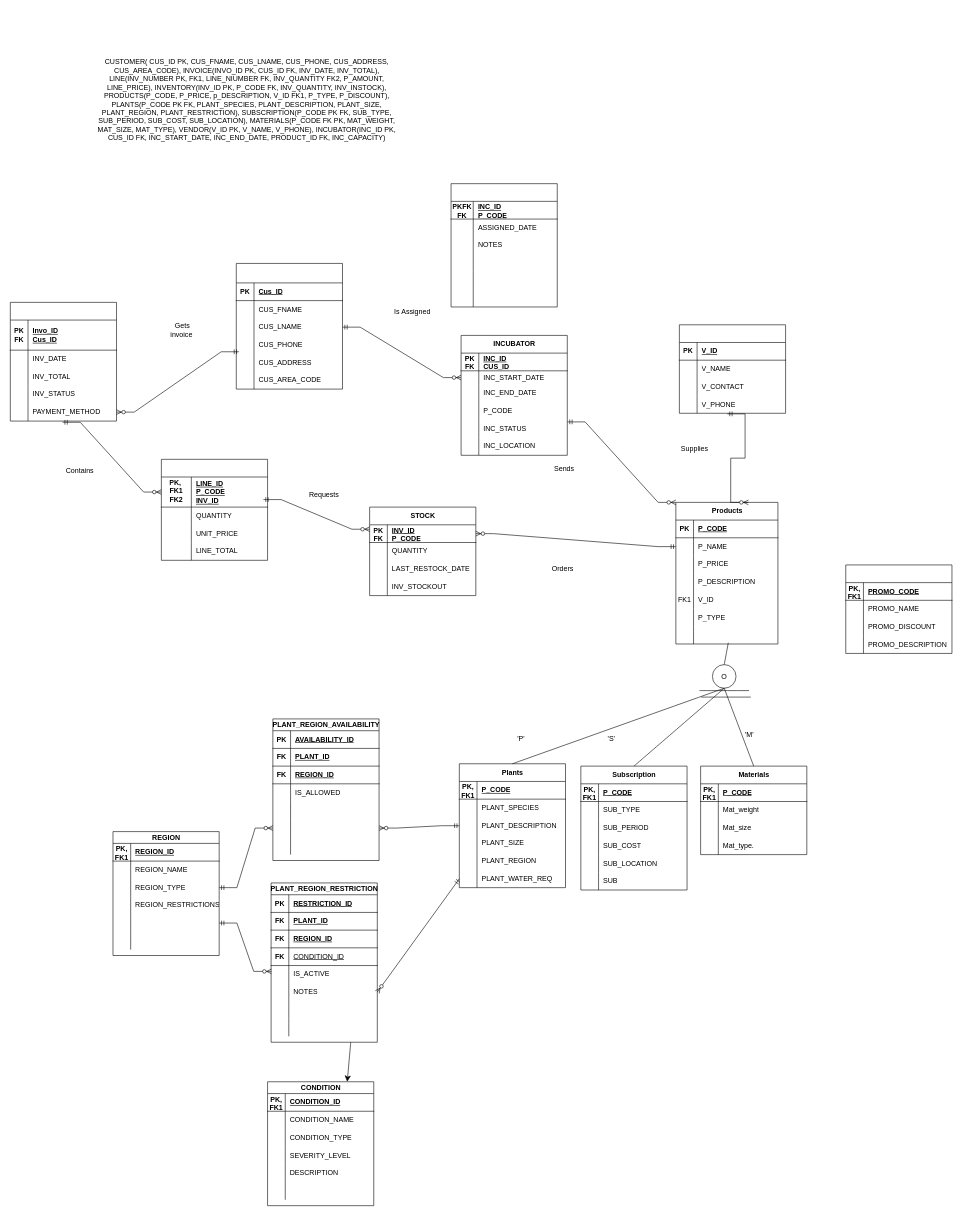
Some shapes in this 962 by 1216 pixel diagram are drawn without their labels. Here are the shapes that lost their labels. From the top down, the box of each, then its label:
(450, 183, 557, 307): INCUBATORPRODUCT
(236, 263, 342, 389): Customer
(10, 302, 117, 421): Invoice
(679, 324, 786, 413): Vendor
(161, 459, 268, 560): INVOICELINE
(845, 564, 952, 653): PROMOTIONS
